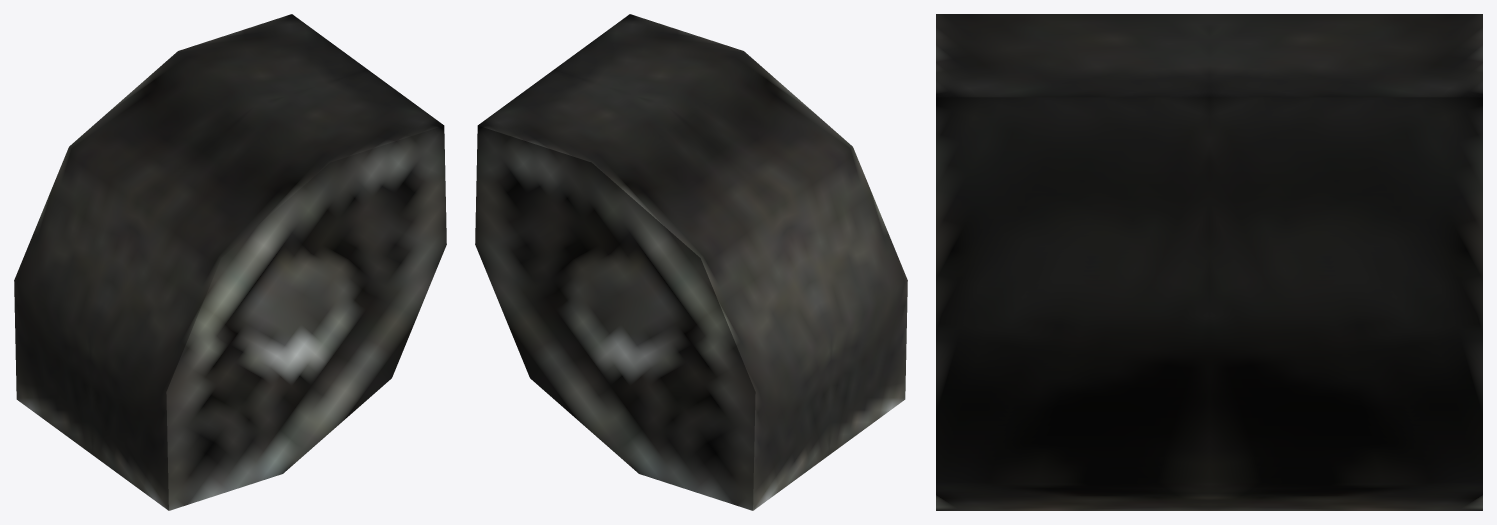
The model's file is Handaxe_tail_default.FBX.
3 renders of one model, left to right at view 1: azimuth 30°, elevation 25°; view 2: azimuth 150°, elevation 25°; view 3: azimuth 270°, elevation 25°, orthographic. The views are drawn at different scales.
Parts seen in each view (by area): view 1: Handaxe_tail_default; view 2: Handaxe_tail_default; view 3: Handaxe_tail_default.
Boxes of the visible parts, <box> form: Handaxe_tail_default: <box>14,14,446,510</box>; Handaxe_tail_default: <box>475,14,907,510</box>; Handaxe_tail_default: <box>936,14,1482,510</box>.
Bounding box in the file's own units: 6.71 × 7.28 × 6.32.
Materials: 1 (1 with a texture image).
